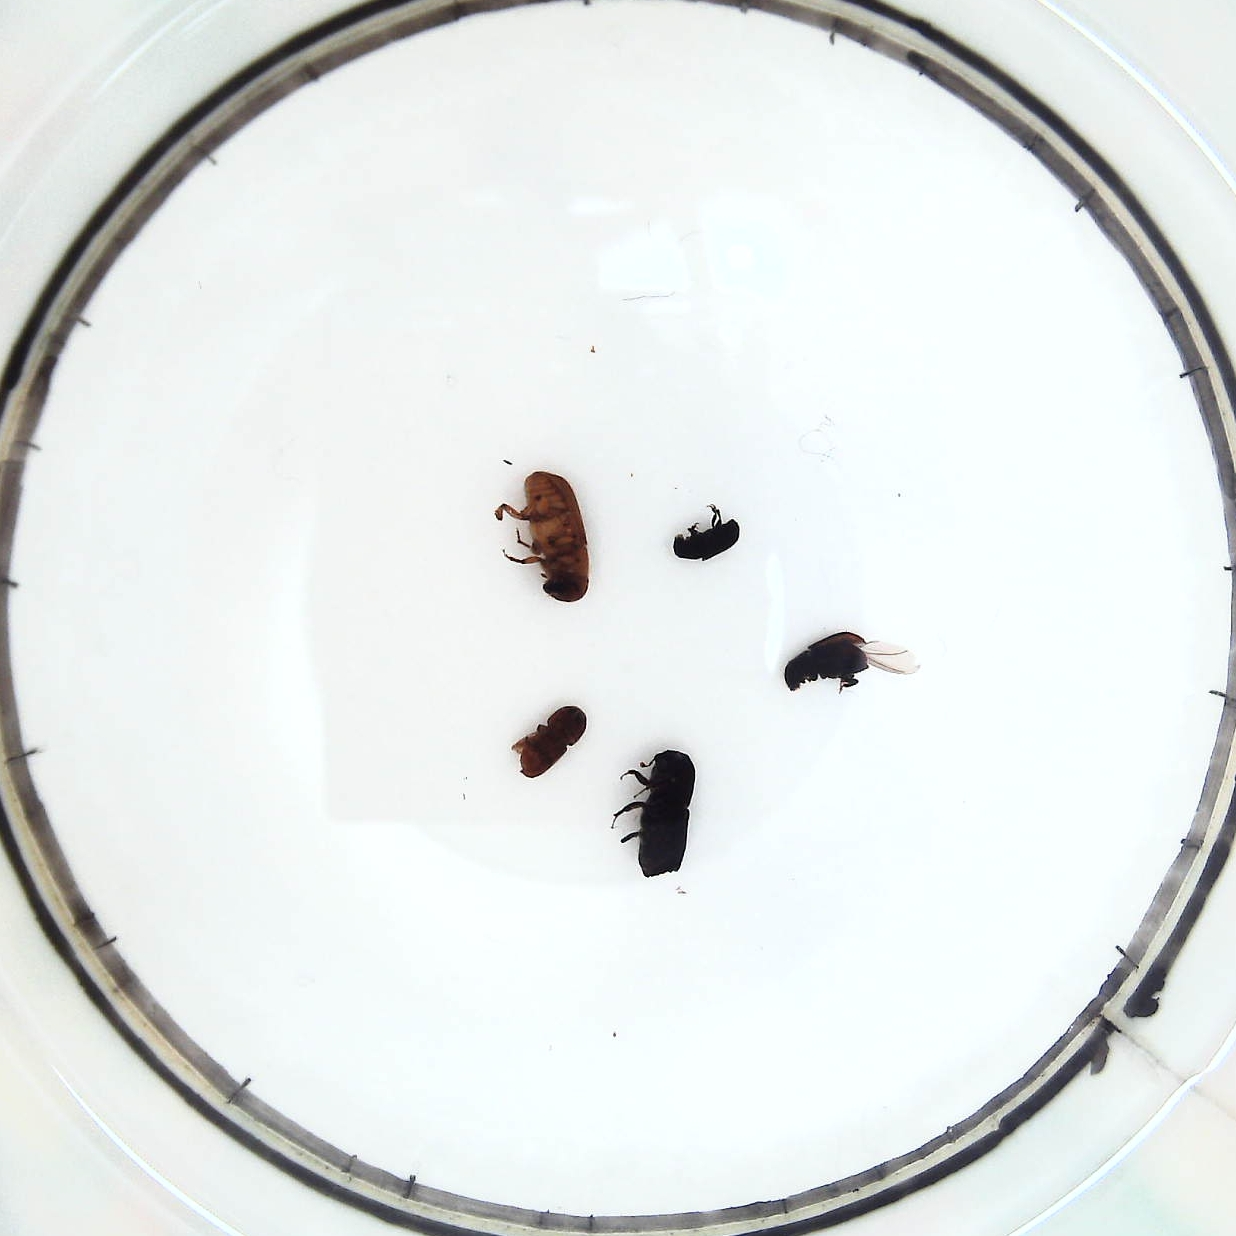Boerner: (616, 746, 699, 889)
Leconte: (493, 470, 602, 609)
armandi: (782, 629, 904, 702)
coleoptera: (670, 509, 748, 566)
linnaeus: (510, 705, 590, 778)
